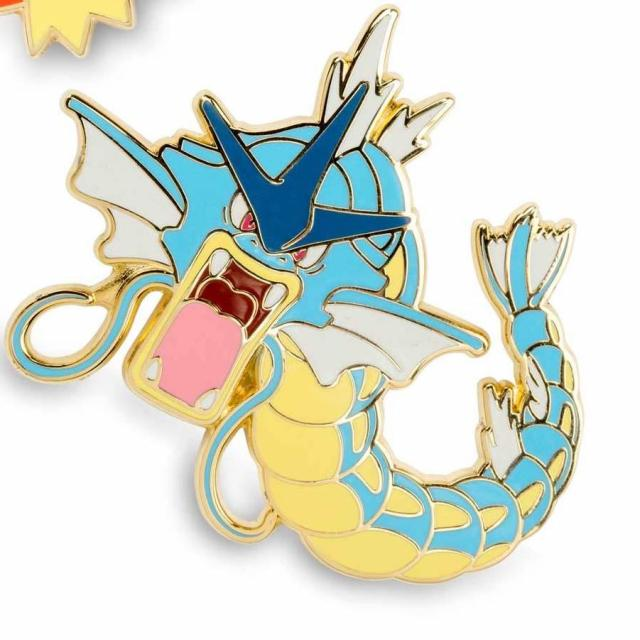Gyarados: (67, 84, 588, 600)
